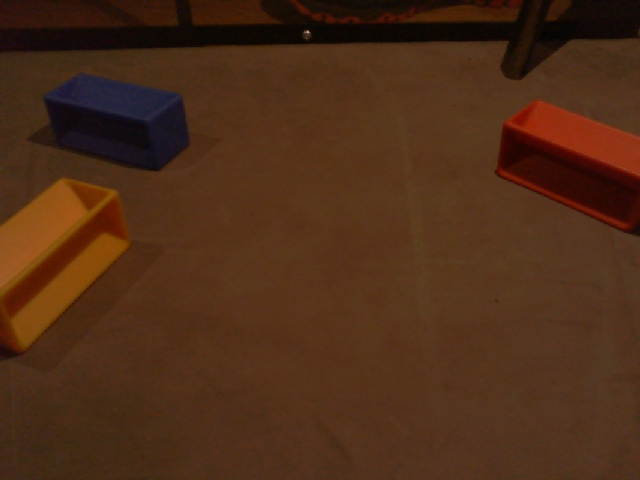BlueSample: (41, 70, 192, 173)
RedSample: (493, 97, 640, 241)
YellowSample: (1, 177, 136, 354)
